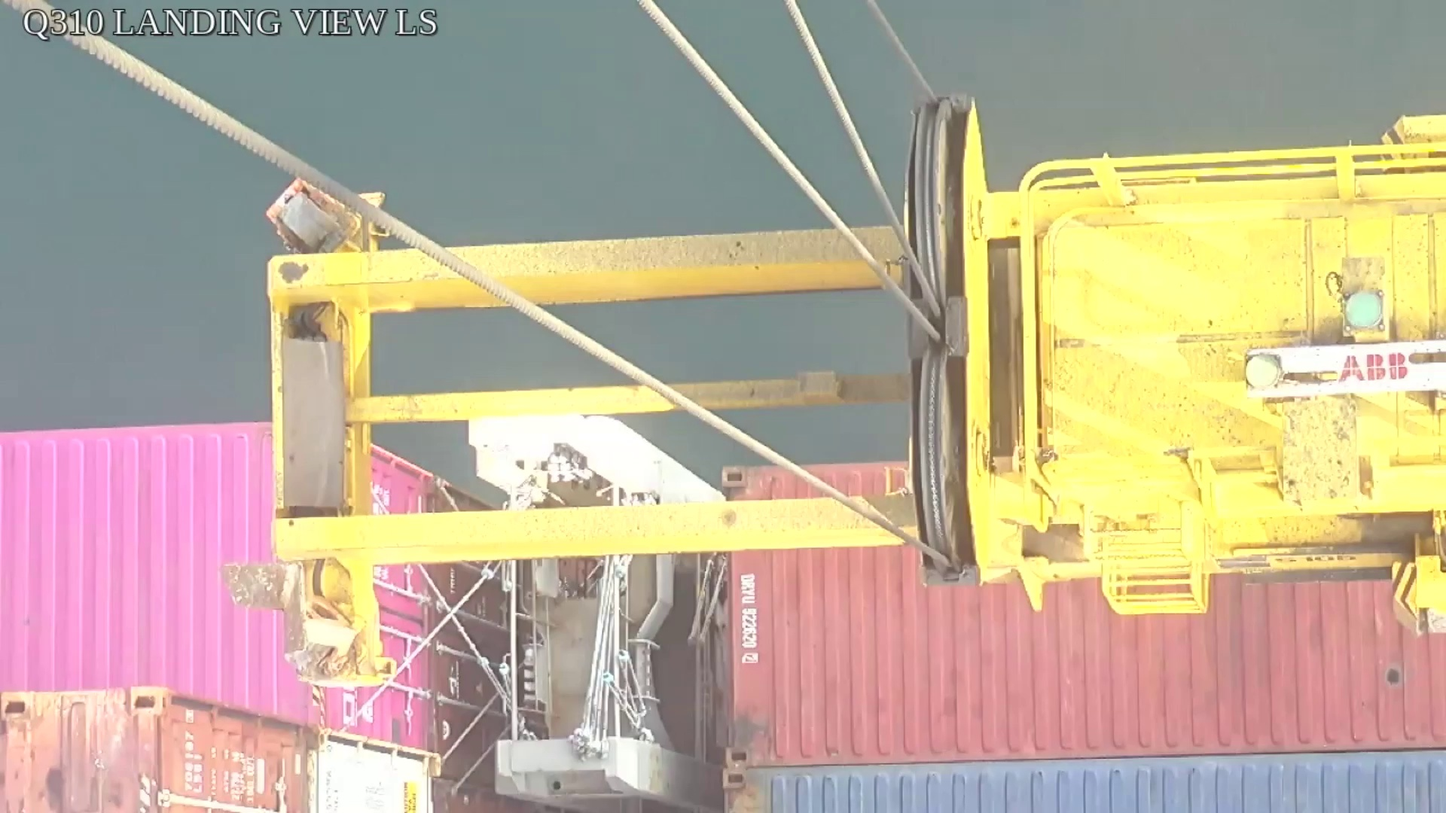aa: (901, 96, 998, 580)
